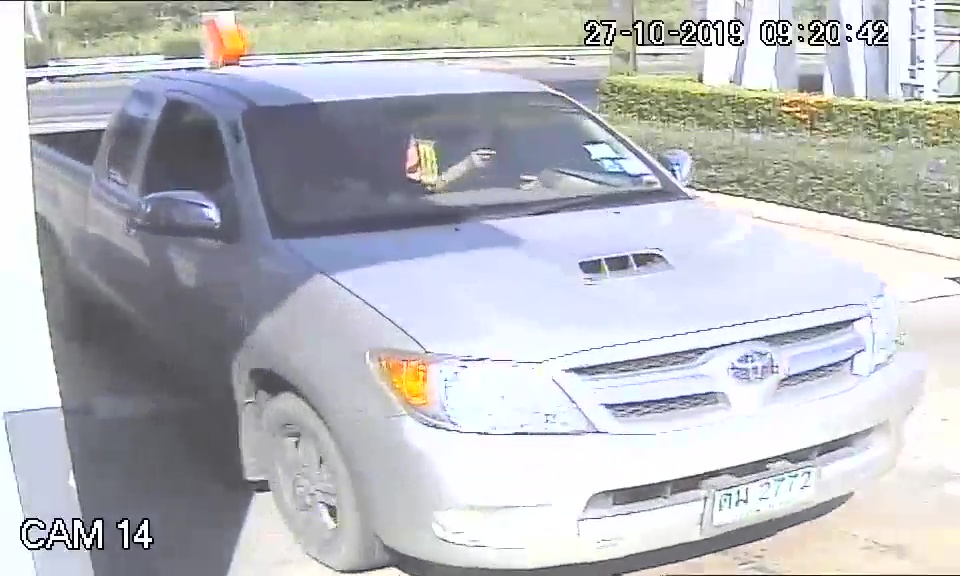pickup: (33, 61, 929, 570)
